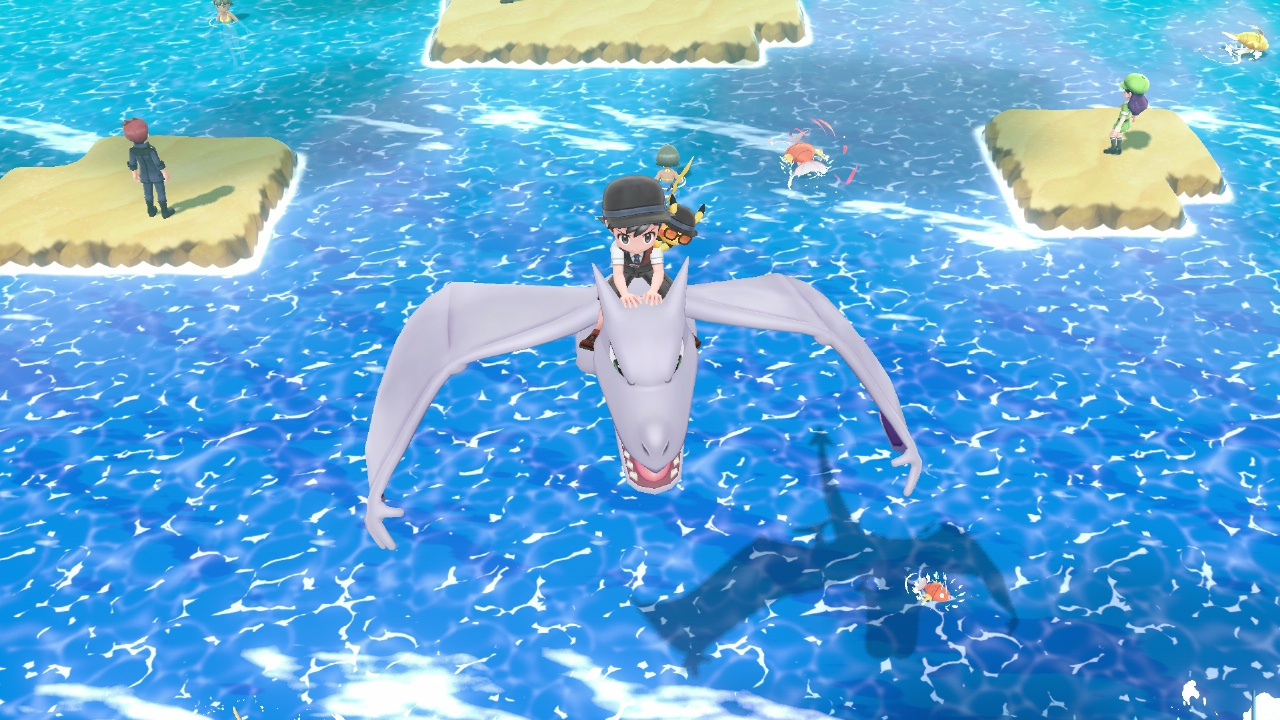Golden: (1222, 27, 1270, 60)
